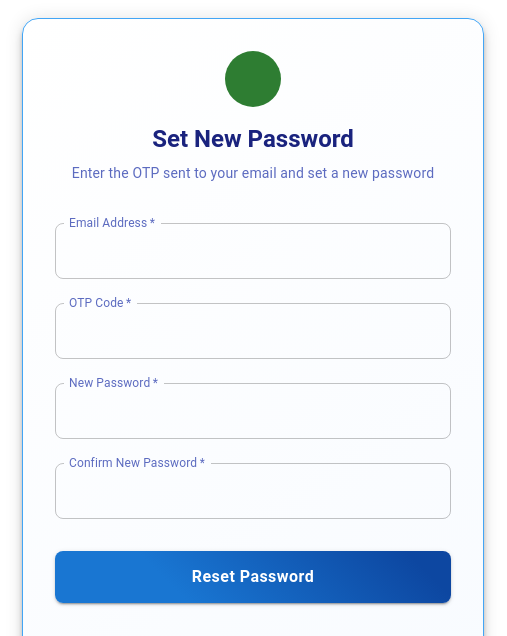
Test: Reset Password Page › should show error for invalid OTP length
The image size is (507, 636).
Type "123" into the field named "otp" at (272, 331), box [93, 303, 451, 359]
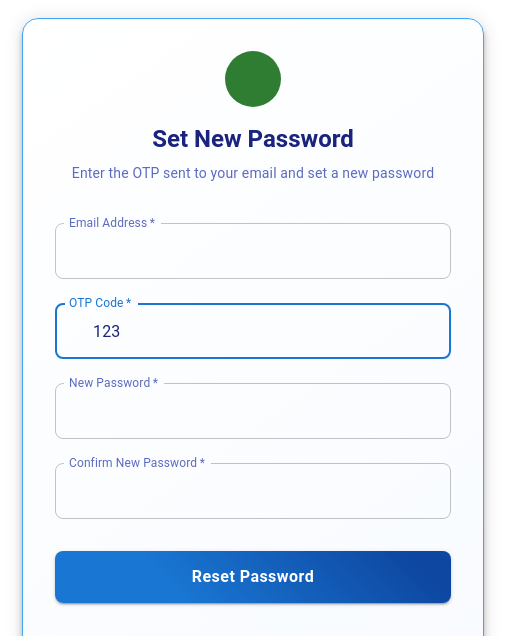
Click the button "Reset Password" at (253, 577), box [55, 551, 451, 603]
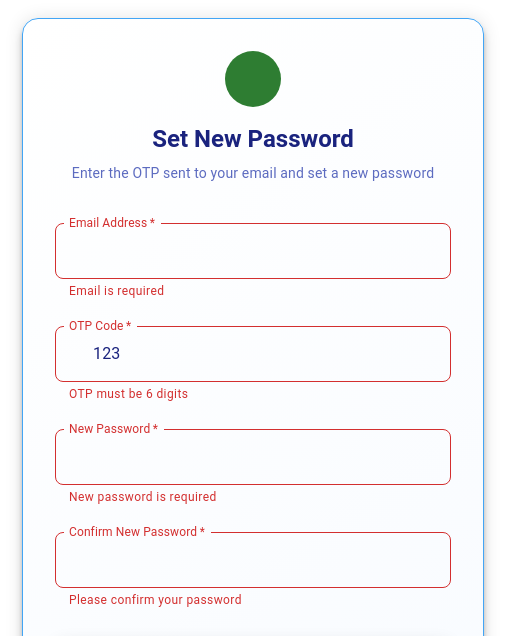
expect the text "OTP must be 6 digits" is shown: met, box [69, 387, 188, 401]
